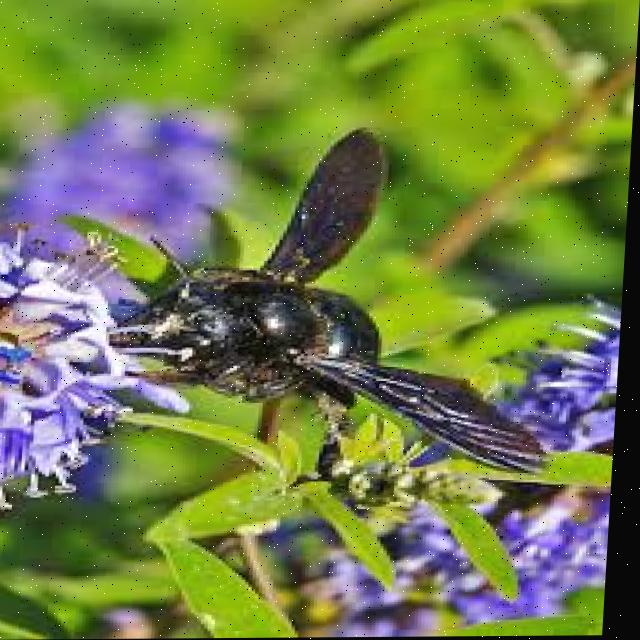Xylocopa: (93, 110, 572, 506)
